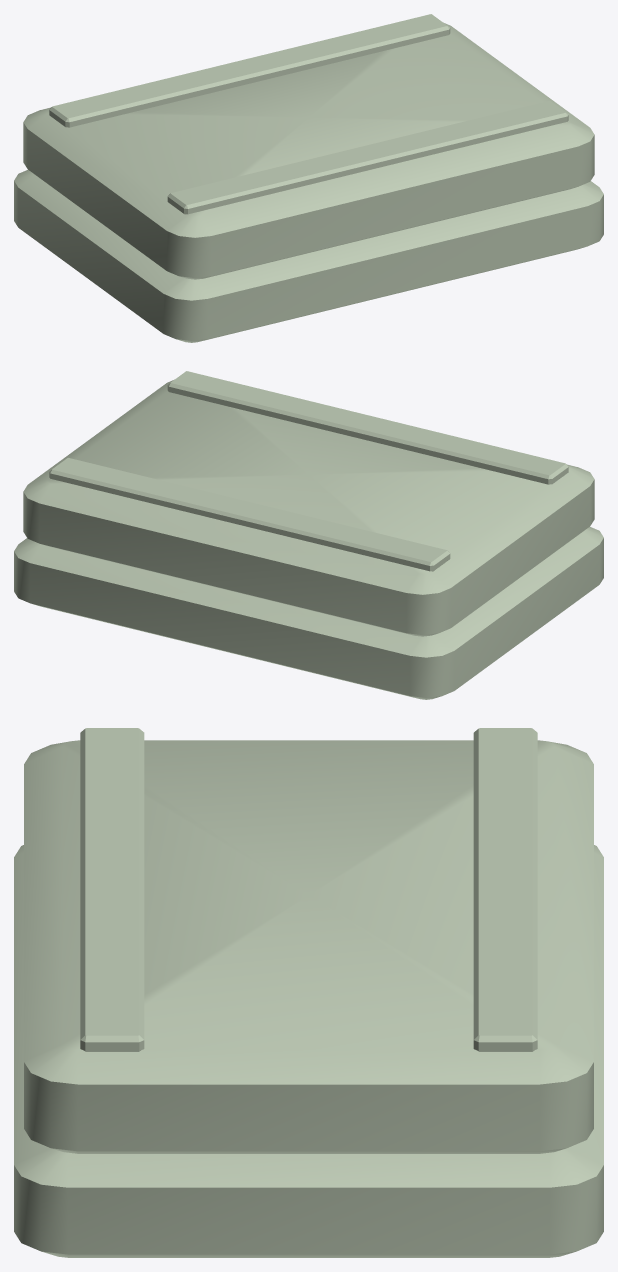
The model's file is clothing-rail-and-wardrobe-towel-folded-1df928cc__35445.glb.
3 renders of one model, top to bottom at view 1: azimuth 30°, elevation 25°; view 2: azimuth 150°, elevation 25°; view 3: azimuth 270°, elevation 25°, orthographic. The views are drawn at different scales.
Visible parts, largest first — view 1: towel-folded; view 2: towel-folded; view 3: towel-folded.
Boxes of the visible parts, left/top/right/bottom form: towel-folded: left=14, top=14, right=603, bottom=342; towel-folded: left=14, top=371, right=603, bottom=699; towel-folded: left=14, top=728, right=603, bottom=1257.
Bounding box in the file's own units: 0.34 × 0.096 × 0.24.
